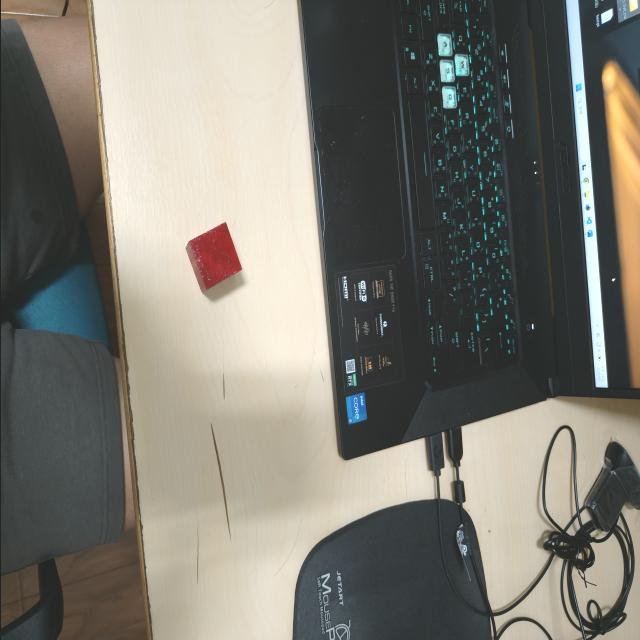red_block: (185, 220, 241, 296)
